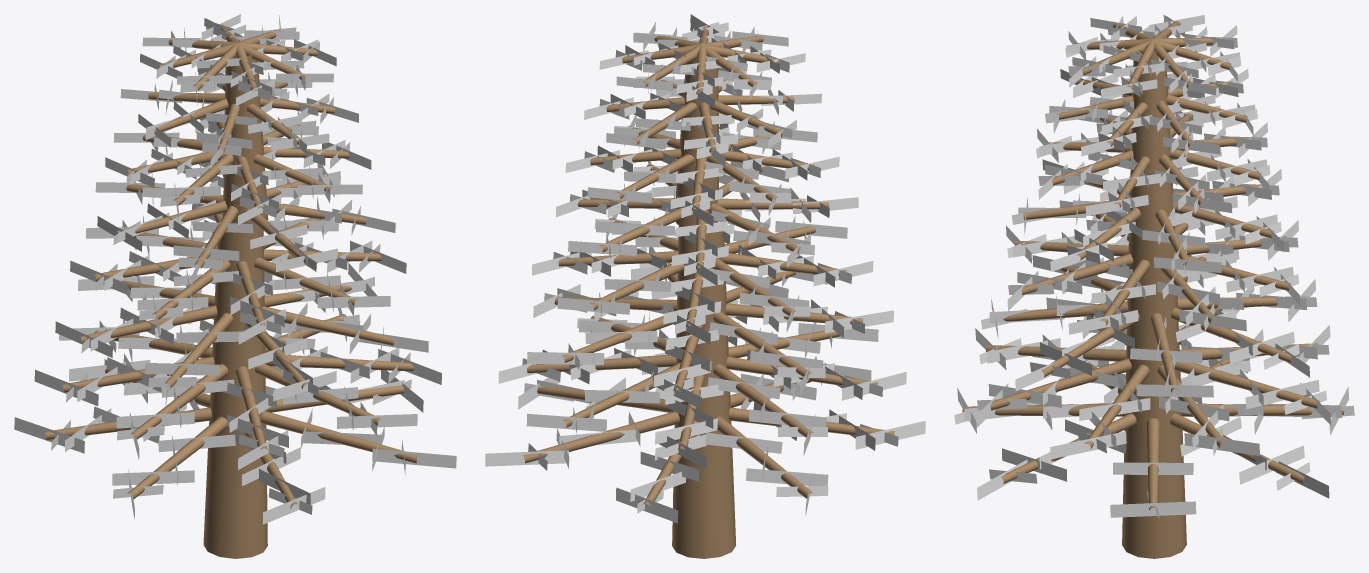
File: pine_03.gltf
3 views of the same model, side by side, from view 1: azimuth 30°, elevation 25°; view 2: azimuth 150°, elevation 25°; view 3: azimuth 270°, elevation 25° (orthographic).
Visible parts, largest first — view 1: Bark, NeedleLight_Foliage_1, Needle_Foliage_0, NeedleLight_Foliage_3, Needle_Foliage_2, NeedleLight_Foliage_5, Needle_Foliage_4, NeedleLight_Foliage_7, Needle_Foliage_6; view 2: Bark, NeedleLight_Foliage_1, Needle_Foliage_0, NeedleLight_Foliage_3, Needle_Foliage_2, NeedleLight_Foliage_5, Needle_Foliage_4, NeedleLight_Foliage_7, Needle_Foliage_6; view 3: Bark, NeedleLight_Foliage_1, NeedleLight_Foliage_3, Needle_Foliage_0, Needle_Foliage_2, NeedleLight_Foliage_5, Needle_Foliage_4, NeedleLight_Foliage_7, Needle_Foliage_6.
Part boxes in pixels (x1,y1,x2,y2): Bark: (45, 24, 418, 558); NeedleLight_Foliage_1: (34, 307, 441, 469); Needle_Foliage_0: (14, 327, 456, 524); NeedleLight_Foliage_3: (70, 196, 406, 344); Needle_Foliage_2: (55, 263, 428, 406); NeedleLight_Foliage_5: (105, 110, 371, 225); Needle_Foliage_4: (95, 160, 395, 285); NeedleLight_Foliage_7: (140, 14, 336, 105); Needle_Foliage_6: (120, 66, 358, 168); Bark: (523, 25, 894, 558); NeedleLight_Foliage_1: (498, 300, 906, 468); Needle_Foliage_0: (485, 329, 925, 523); NeedleLight_Foliage_3: (532, 209, 873, 344); Needle_Foliage_2: (527, 247, 893, 408); NeedleLight_Foliage_5: (565, 113, 839, 226); Needle_Foliage_4: (556, 161, 858, 285); NeedleLight_Foliage_7: (599, 14, 805, 108); Needle_Foliage_6: (584, 67, 821, 167); Bark: (962, 21, 1344, 558); NeedleLight_Foliage_1: (975, 293, 1331, 459); NeedleLight_Foliage_3: (1006, 196, 1300, 334); Needle_Foliage_0: (954, 345, 1354, 519); Needle_Foliage_2: (981, 249, 1317, 399); NeedleLight_Foliage_5: (1036, 105, 1270, 216); Needle_Foliage_4: (1011, 152, 1284, 274); NeedleLight_Foliage_7: (1065, 14, 1241, 97); Needle_Foliage_6: (1045, 61, 1257, 156).
Size of the model in its own units: 3.29 by 4.66 by 3.33.
